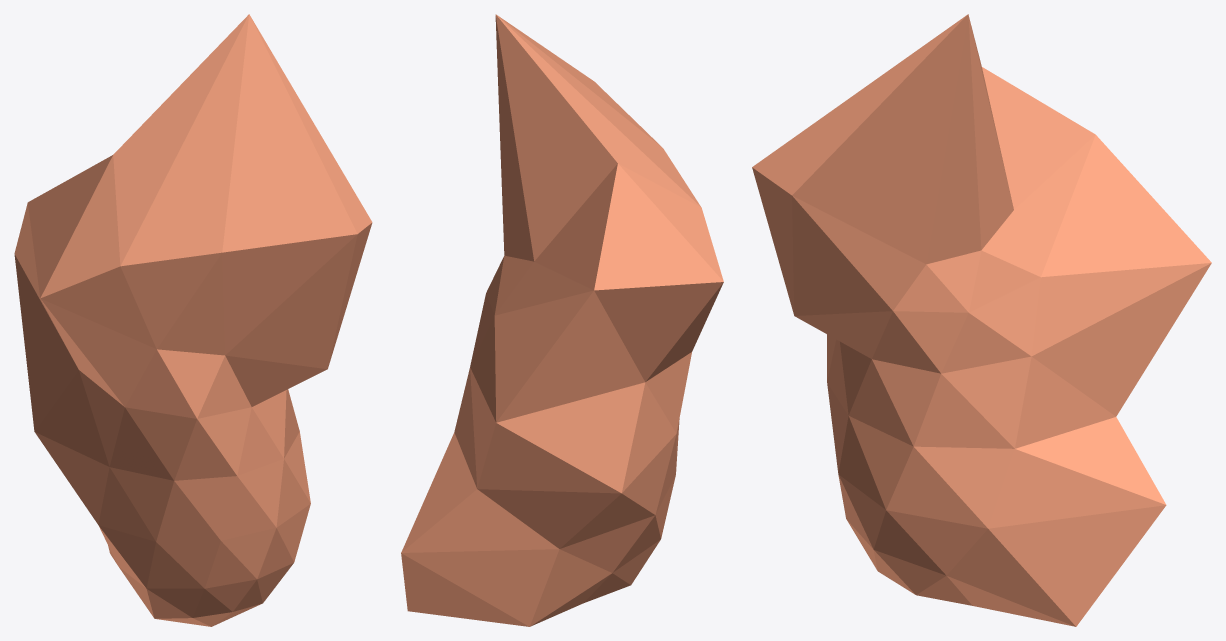
The model's file is stone2.fbx.
3 renders of one model, left to right at view 1: azimuth 30°, elevation 25°; view 2: azimuth 150°, elevation 25°; view 3: azimuth 270°, elevation 25°, orthographic. The views are drawn at different scales.
Parts seen in each view (by area): view 1: stone_obj; view 2: stone_obj; view 3: stone_obj.
Boxes of the visible parts, x1,y1,x2,y2 form: stone_obj: (14,14,372,626); stone_obj: (401,14,723,626); stone_obj: (752,14,1211,626).
Size of the model in its own units: 1.53 by 3.24 by 2.23.
